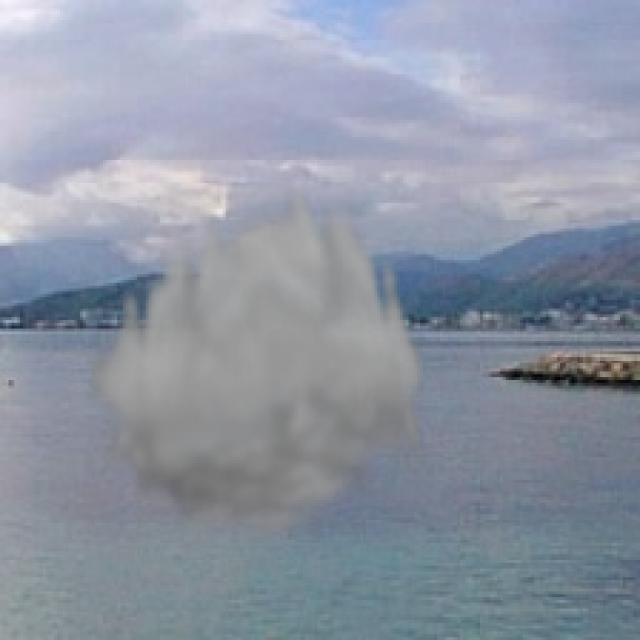smoke: (83, 171, 428, 546)
